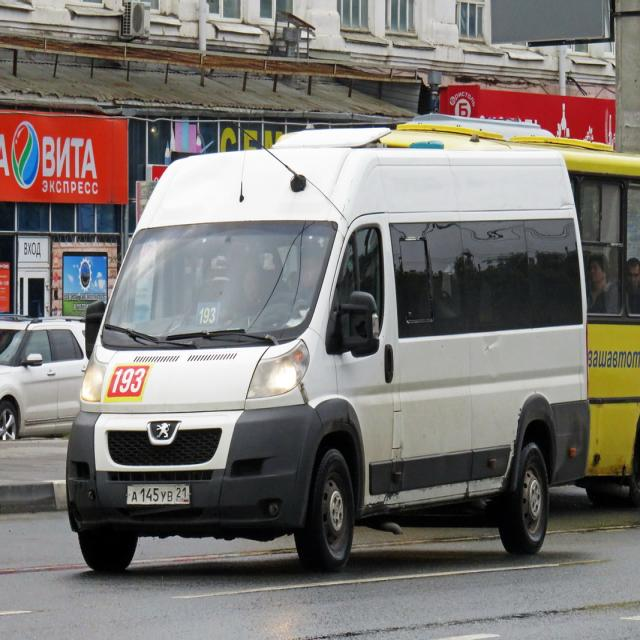number-of-bus: (108, 360, 149, 402), (195, 301, 223, 334)
